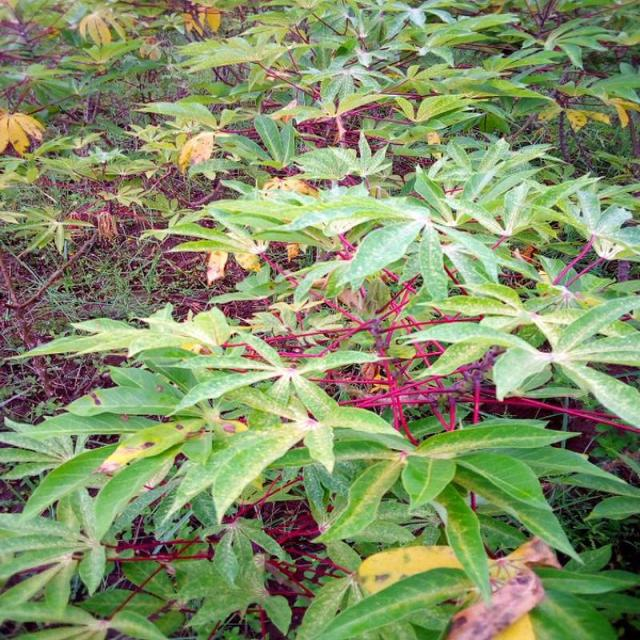Mosaico: (365, 538, 559, 640), (91, 407, 254, 470), (465, 273, 599, 338), (527, 85, 636, 137), (183, 228, 262, 289), (0, 92, 55, 163), (173, 115, 243, 167), (53, 0, 134, 43), (266, 168, 334, 197), (178, 0, 226, 39)
